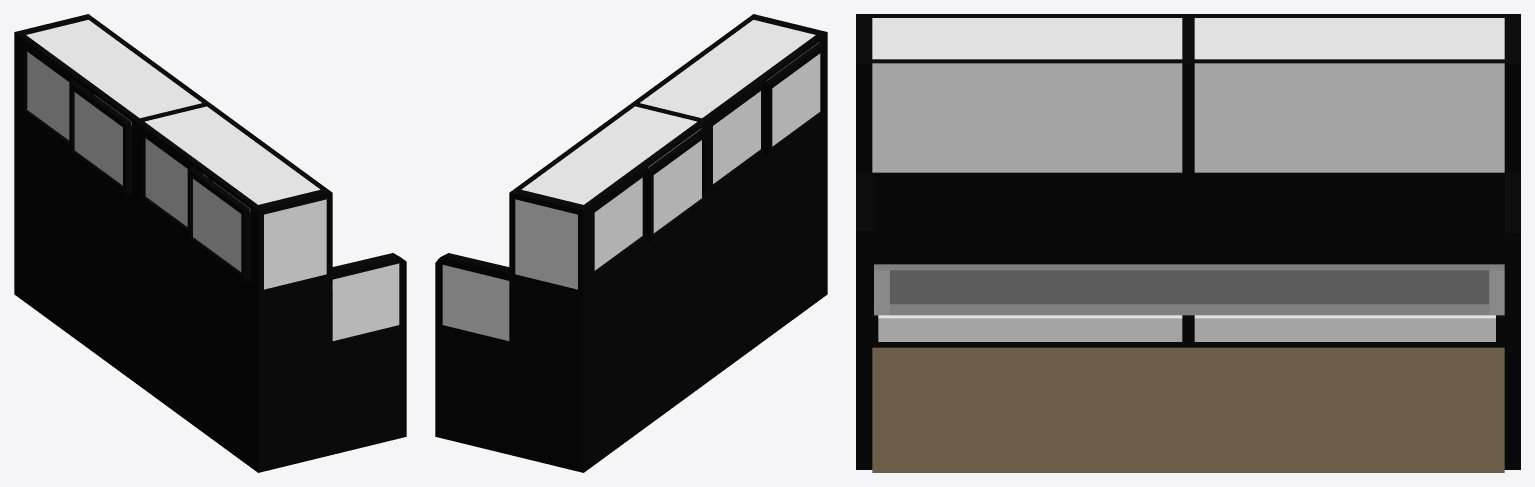
File: bancada.fbx
3 renders of one model, left to right at view 1: azimuth 30°, elevation 25°; view 2: azimuth 150°, elevation 25°; view 3: azimuth 270°, elevation 25°, orthographic. The views are drawn at different scales.
Parts seen in each view (by area): view 1: GlassBalcony; view 2: GlassBalcony; view 3: GlassBalcony.
Part boxes in pixels (<box>): GlassBalcony: <box>14,14,406,472</box>; GlassBalcony: <box>435,14,827,472</box>; GlassBalcony: <box>856,14,1520,472</box>.
Size of the model in its own units: 208 by 327 by 552.
